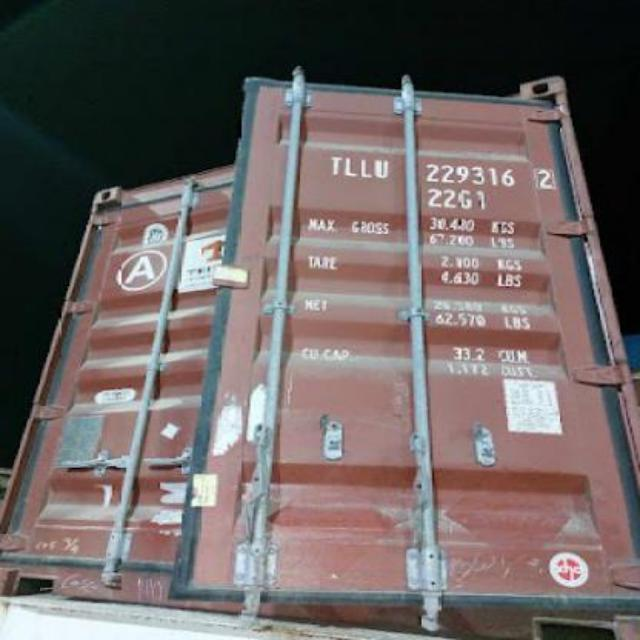1: (488, 163, 500, 187)
2: (532, 167, 560, 196), (424, 160, 440, 184), (441, 158, 454, 186)
3: (470, 154, 486, 186)
6: (498, 159, 518, 191)
9: (454, 164, 466, 186)
L: (344, 154, 358, 180), (358, 154, 372, 180)
T: (328, 148, 342, 178)
U: (374, 154, 390, 182)
